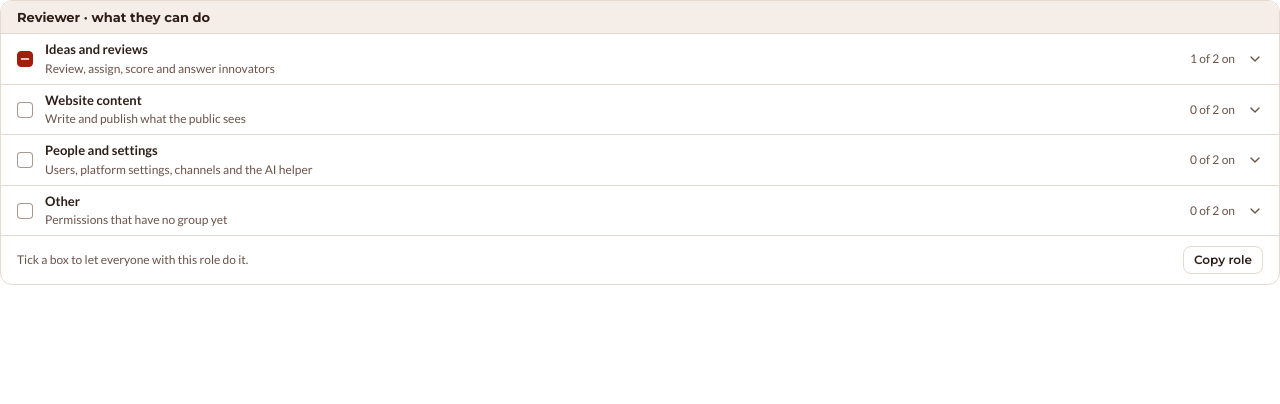
Scenario: 3.24 panel › shows the count and the mixed state, closed until a row is opened
The width and height of the screenshot is (1280, 404).
Expected: the text "Work on review tasks" is not shown
Click the button with aria-label "Show the permissions in Ideas and reviews". click: x=96, y=49
box: x1=45 y1=34 x2=1263 y2=84
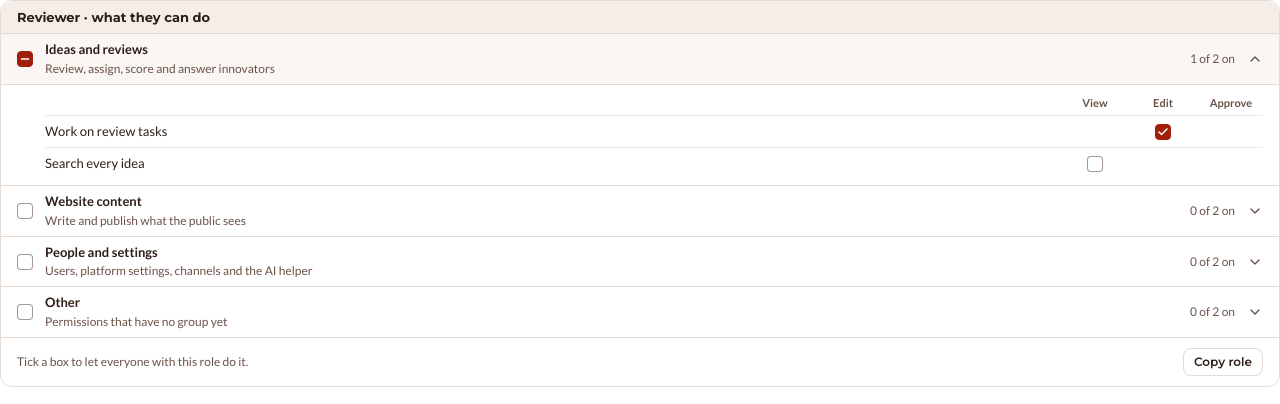
Result: the text "Work on review tasks" is shown at x1=45 y1=123 x2=168 y2=139
Click the button with aria-label "Show the permissions in Website content". click: x=93, y=201
box: x1=45 y1=186 x2=1263 y2=236
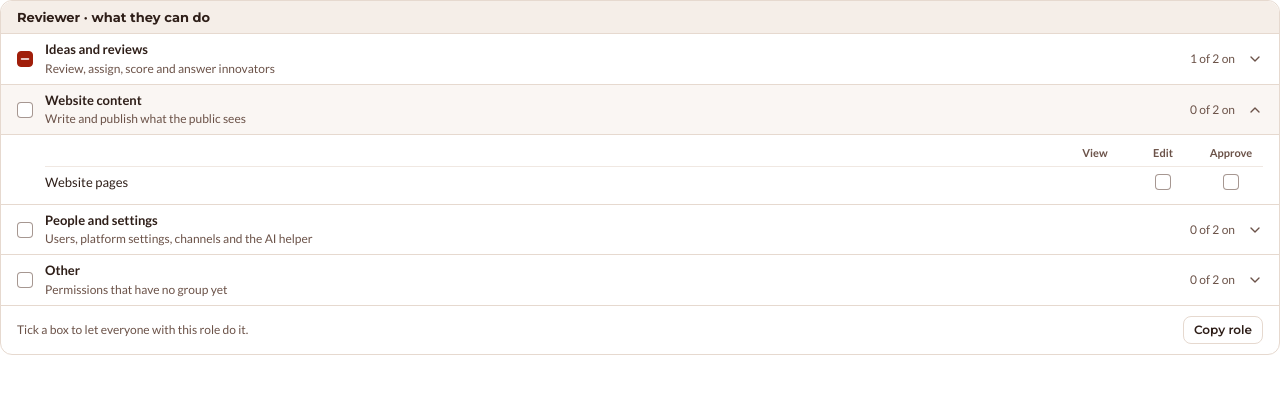
Result: the text "Work on review tasks" is gone
